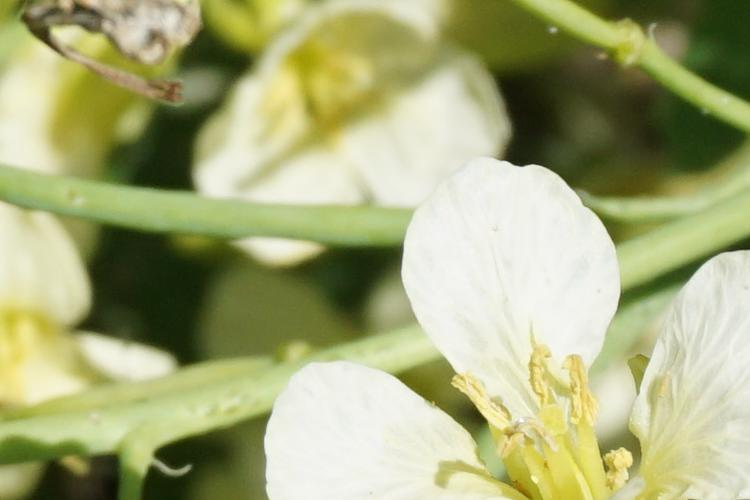white: (248, 160, 750, 497), (203, 25, 531, 240)
